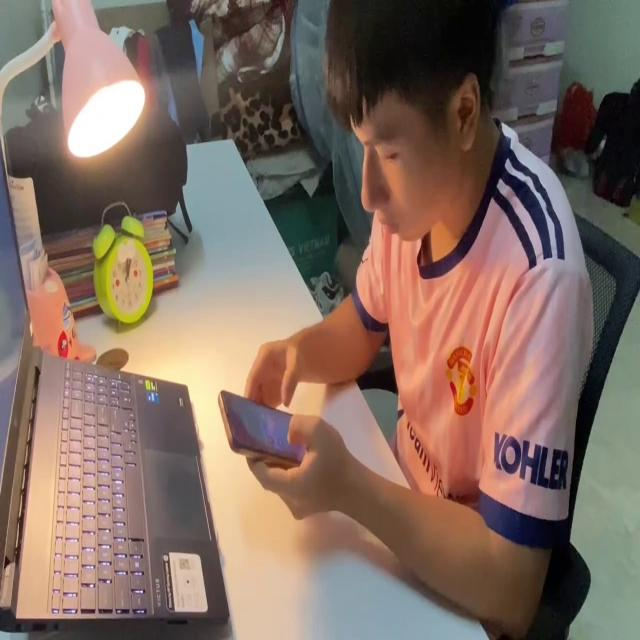laptop: (0, 128, 233, 632)
phone: (215, 387, 314, 466)
student: (241, 0, 585, 640)
